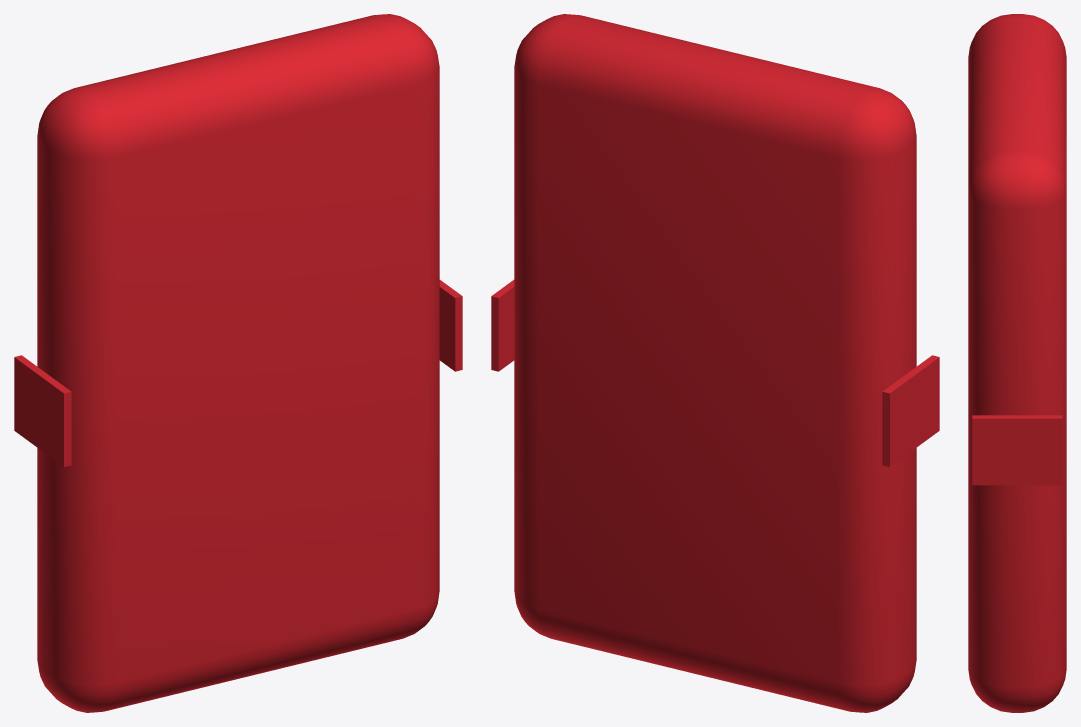
The model's file is item-stock_powder_300.glb.
The picture shows the model from 3 angles, left to right: view 1: azimuth 30°, elevation 25°; view 2: azimuth 150°, elevation 25°; view 3: azimuth 270°, elevation 25°; orthographic projection. The views are drawn at different scales.
Visible parts, largest first — view 1: body, seal, seal.001; view 2: body, seal, seal.001; view 3: body, seal.001.
Boxes of the visible parts, x1,y1,x2,y2 form: body: [37, 14, 439, 712]; seal: [14, 355, 71, 466]; seal.001: [439, 280, 462, 371]; body: [514, 14, 916, 712]; seal: [882, 355, 939, 466]; seal.001: [491, 280, 514, 371]; body: [968, 14, 1066, 712]; seal.001: [972, 415, 1062, 485].
Bounding box in the file's own units: 0.17 × 0.25 × 0.04.
